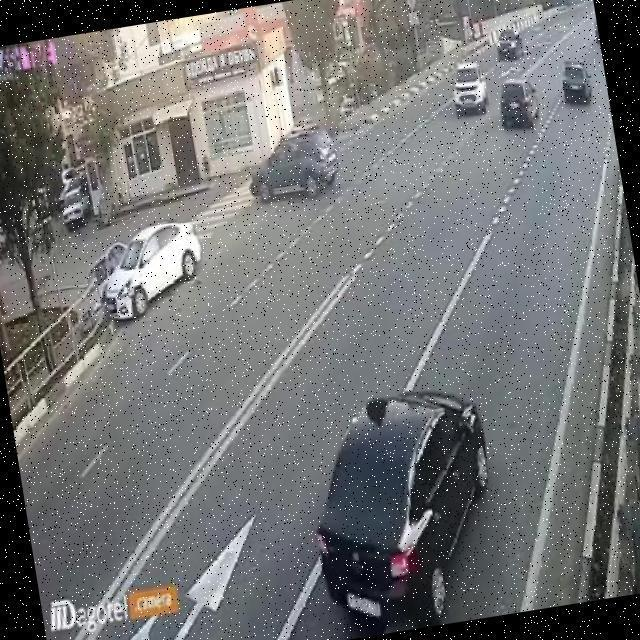accident: (75, 215, 230, 352)
